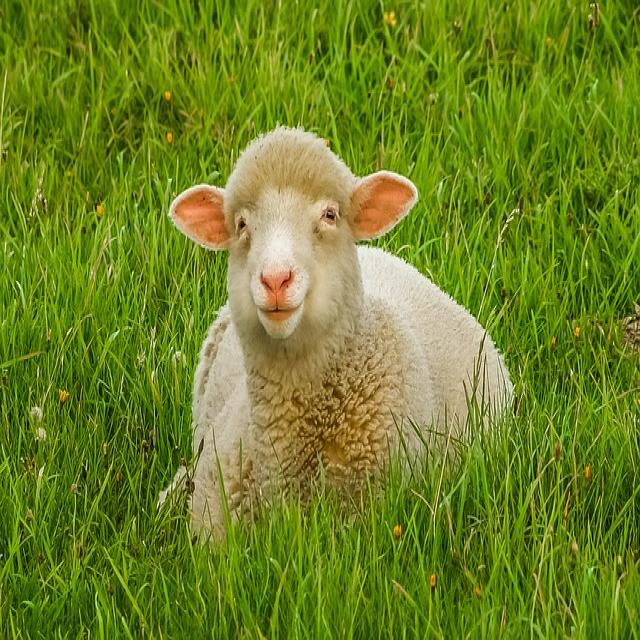goat: (170, 128, 512, 538)
